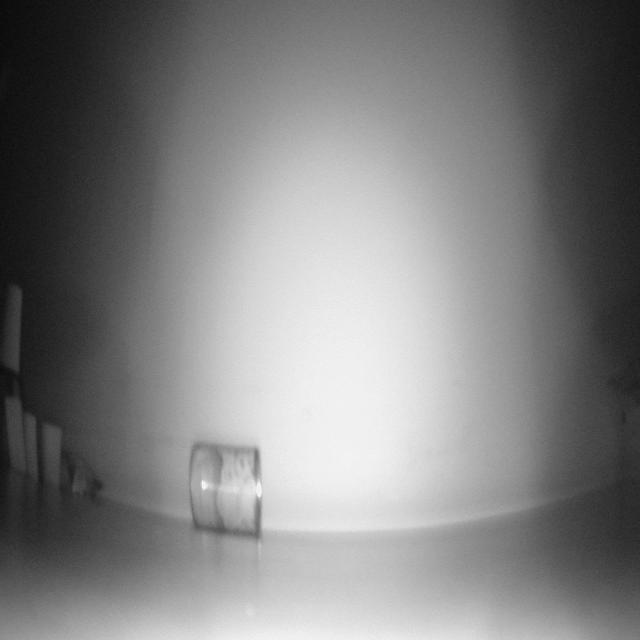targets: (188, 444, 266, 529), (4, 283, 25, 371), (4, 393, 26, 472), (44, 426, 63, 478), (24, 408, 38, 476)
